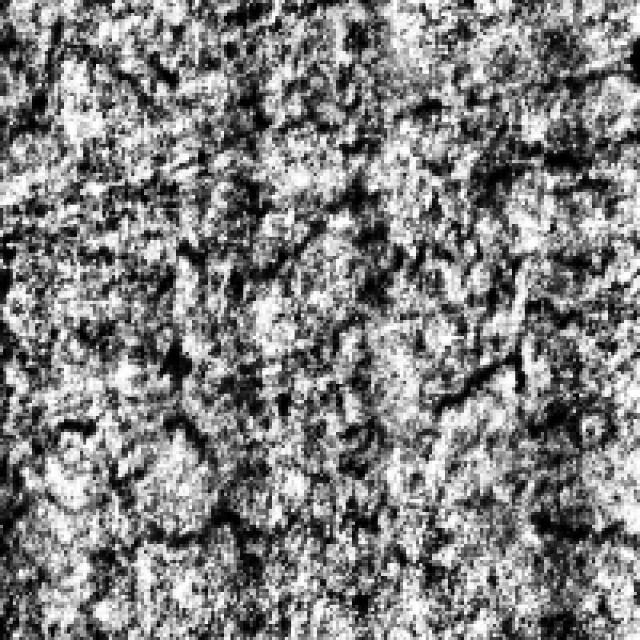Pitted_Surface: (58, 166, 390, 544), (400, 90, 602, 436)
